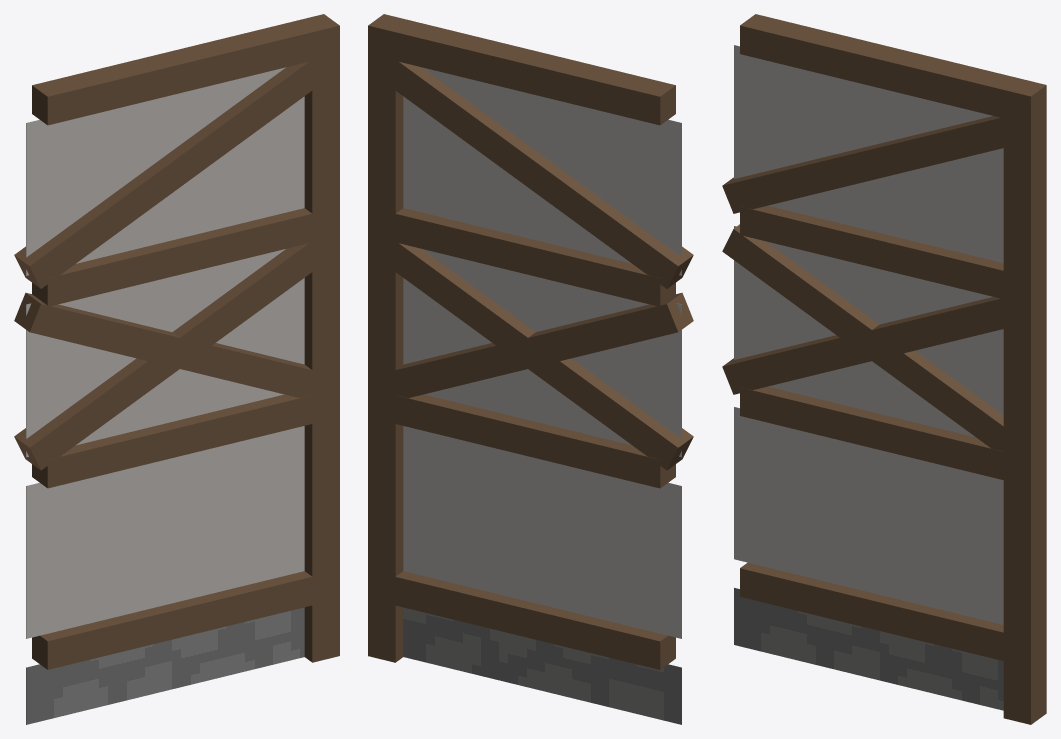
Rendered from wall_2_1.gltf.
3 renders of one model, left to right at view 1: azimuth 30°, elevation 25°; view 2: azimuth 150°, elevation 25°; view 3: azimuth 330°, elevation 25°, orthographic.
Visible parts, largest first — view 1: cube (×22); view 2: cube (×22); view 3: cube (×22).
Boxes of the visible parts, bbox=[...] form: cube (×22): bbox=[14, 14, 339, 724]; cube (×22): bbox=[368, 14, 693, 724]; cube (×22): bbox=[722, 14, 1046, 724].
Bounding box in the file's own units: 2.12 × 4.12 × 0.1875.
Materials: 1 (1 with a texture image).
